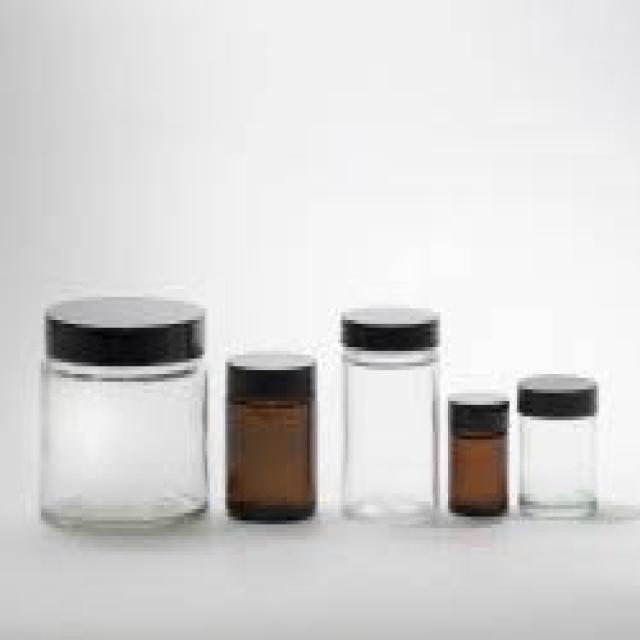glass: (38, 359, 205, 528), (338, 343, 435, 524), (223, 397, 315, 521), (514, 409, 594, 517), (448, 428, 504, 517)
metal: (44, 301, 200, 370), (223, 347, 315, 397), (338, 304, 435, 351), (514, 370, 594, 413), (446, 385, 505, 428)
